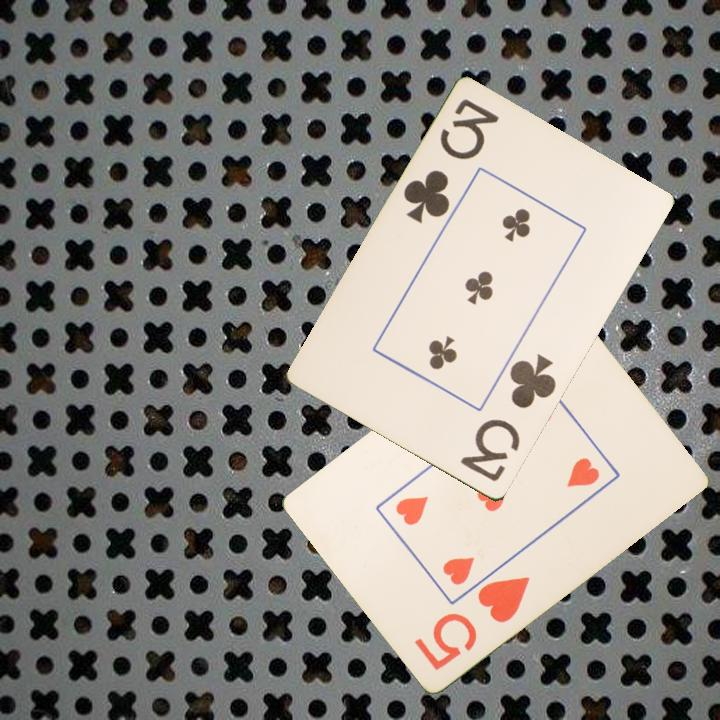3c: (456, 350, 560, 486), (399, 95, 502, 227)
5h: (410, 572, 534, 673)
